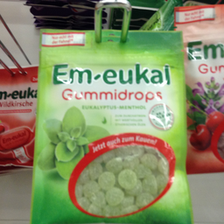candy: (39, 28, 184, 222), (174, 5, 224, 170)
